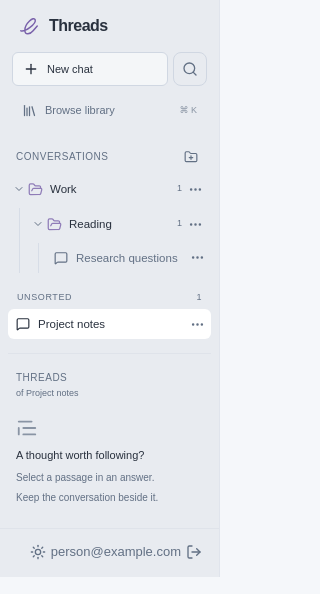
Scenario: sidebar organization › provides unclipped, keyboard-accessible folder menus
Click the button named "Folder options: Work": click(196, 189) [184,174,207,204]
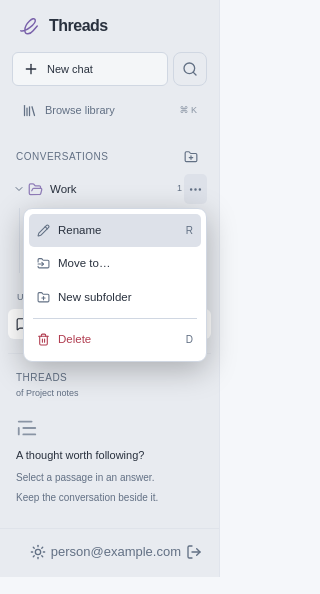
Check: the menu is shown, box [23,208,207,362]
Check: the text "Rename" is shown, box [58,224,102,236]
Press ArrowDown in the menu item "Rename R", box [29,214,201,247]
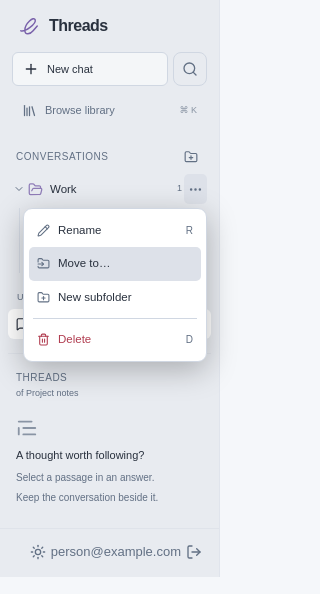
Check: the text "Move to" is shown, box [58,257,110,269]
Press r in the menu item "Move to…", box [29,247,201,281]
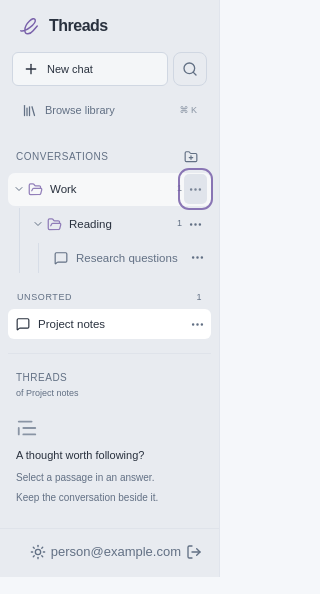
Check: the button named "Folder options: Work" is shown, box [184,174,207,204]
Check: the menu is gone
